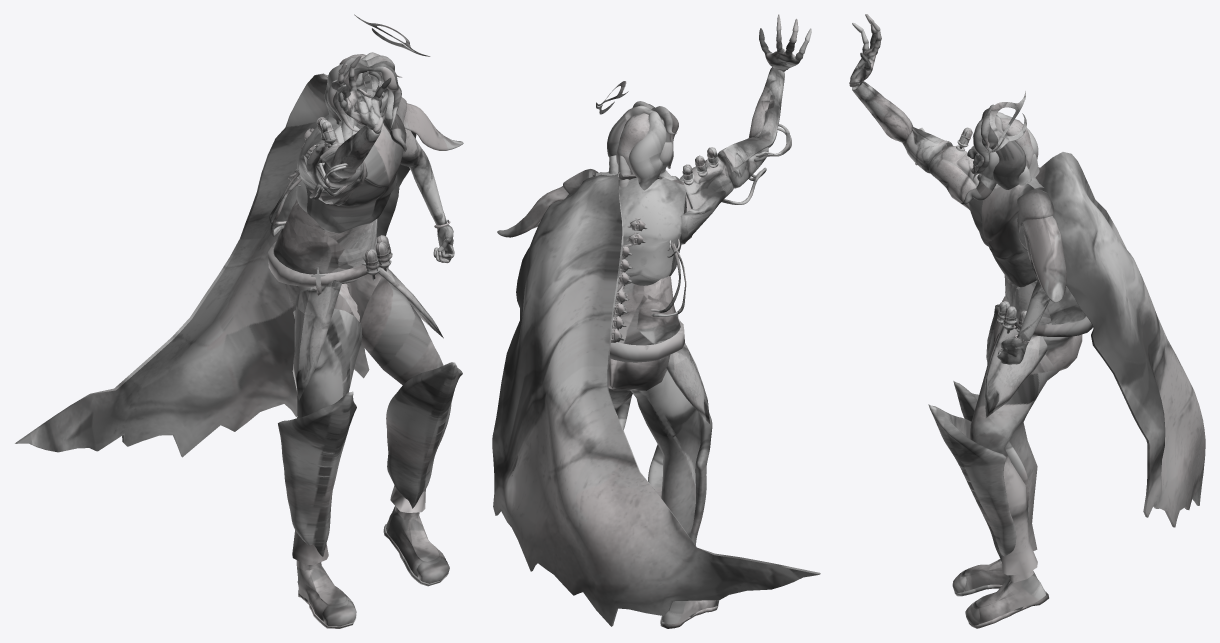
Rendered from Noxaris_Atack3.fbx.
3 renders of one model, left to right at view 1: azimuth 30°, elevation 25°; view 2: azimuth 150°, elevation 25°; view 3: azimuth 270°, elevation 25°, orthographic. The views are drawn at different scales.
Parts seen in each view (by area): view 1: Capa; view 2: Capa; view 3: Capa.
Boxes of the visible parts, x1=… form: Capa: x1=15, y1=14, x2=463, y2=628; Capa: x1=492, y1=14, x2=820, y2=628; Capa: x1=849, y1=14, x2=1205, y2=628.
Bounding box in the file's own units: 415 × 611 × 352.
